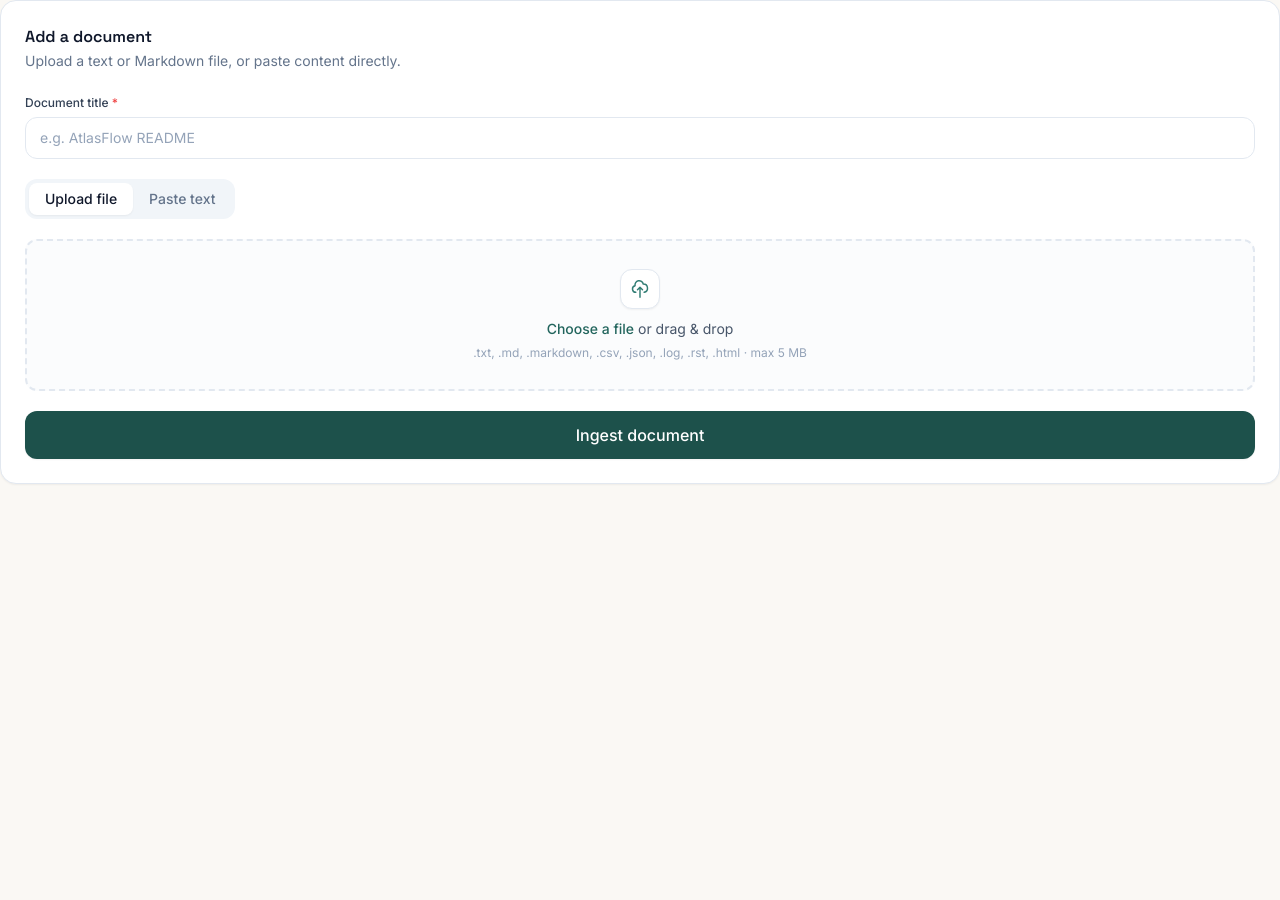
Test: IngestPanel › shows API error on failure
Type "Test Doc" into the field labelled "Document title *". click: x=640, y=138
box: x1=25 y1=117 x2=1255 y2=159
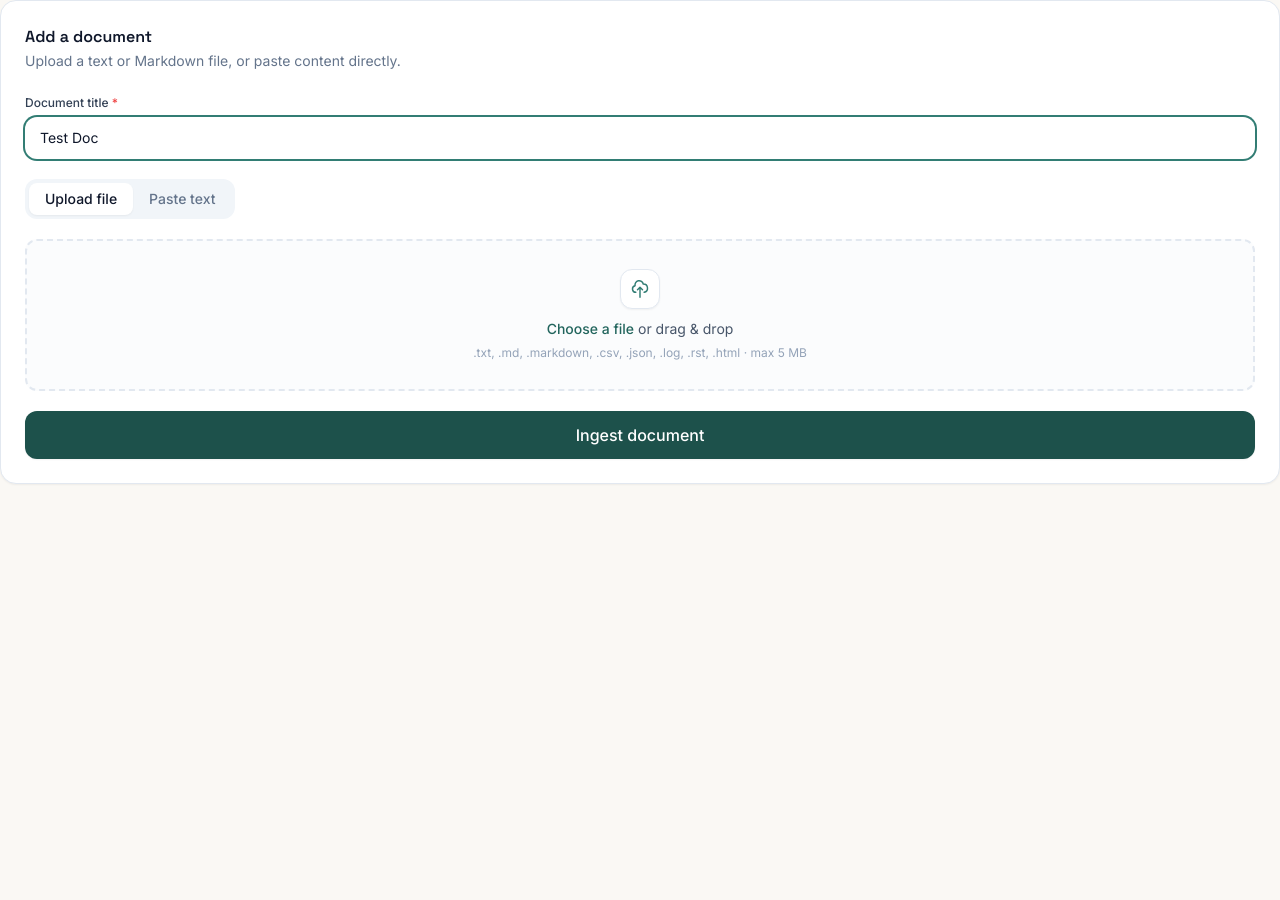
Click the tab "Paste text". click: x=182, y=199
box: x1=133 y1=183 x2=232 y2=215
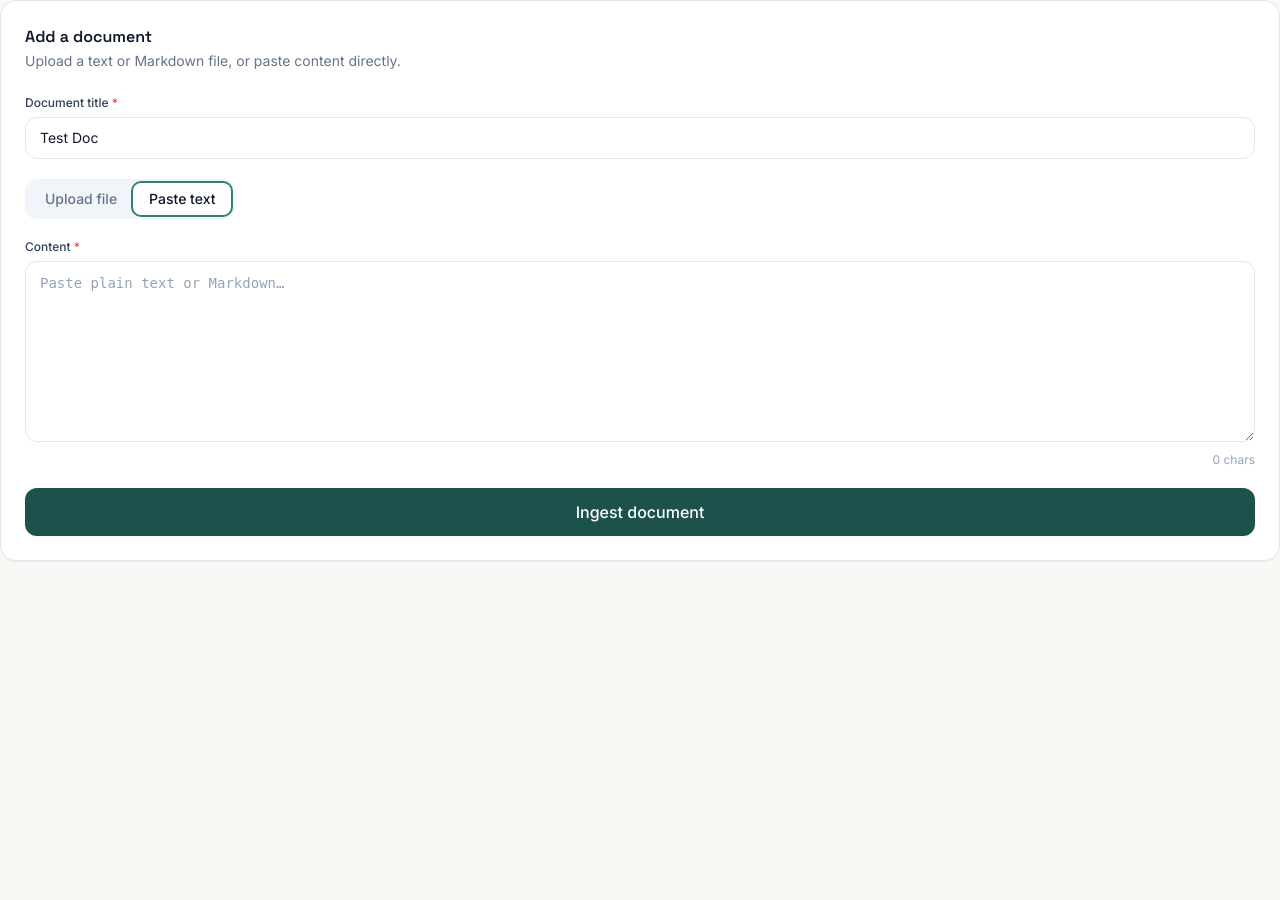
Type "This is a long enough document content for testing purposes." into the text box labelled "Content *". click: x=640, y=352
box: x1=25 y1=261 x2=1255 y2=442
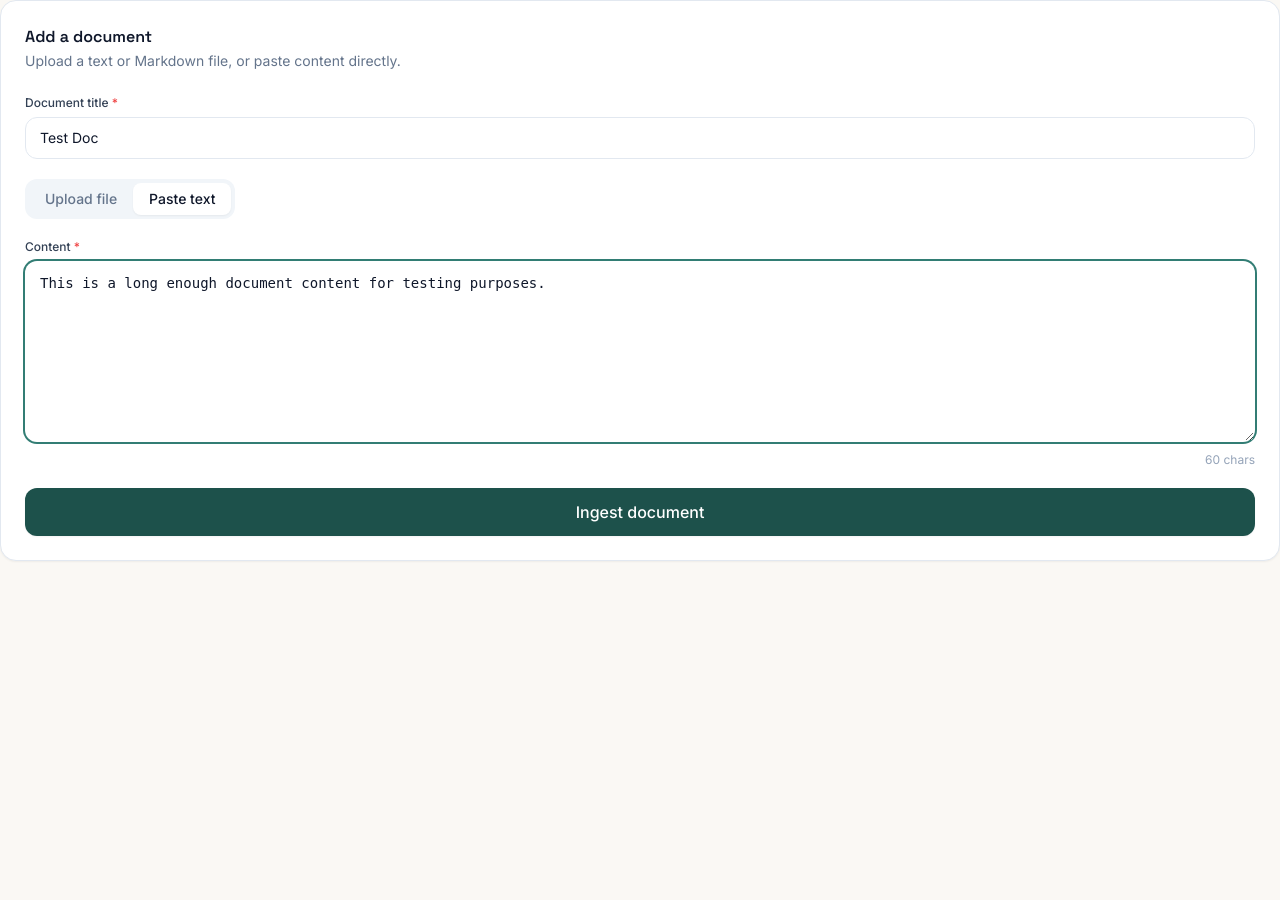
Click the button "Ingest document". click: x=640, y=512
box: x1=25 y1=488 x2=1255 y2=536
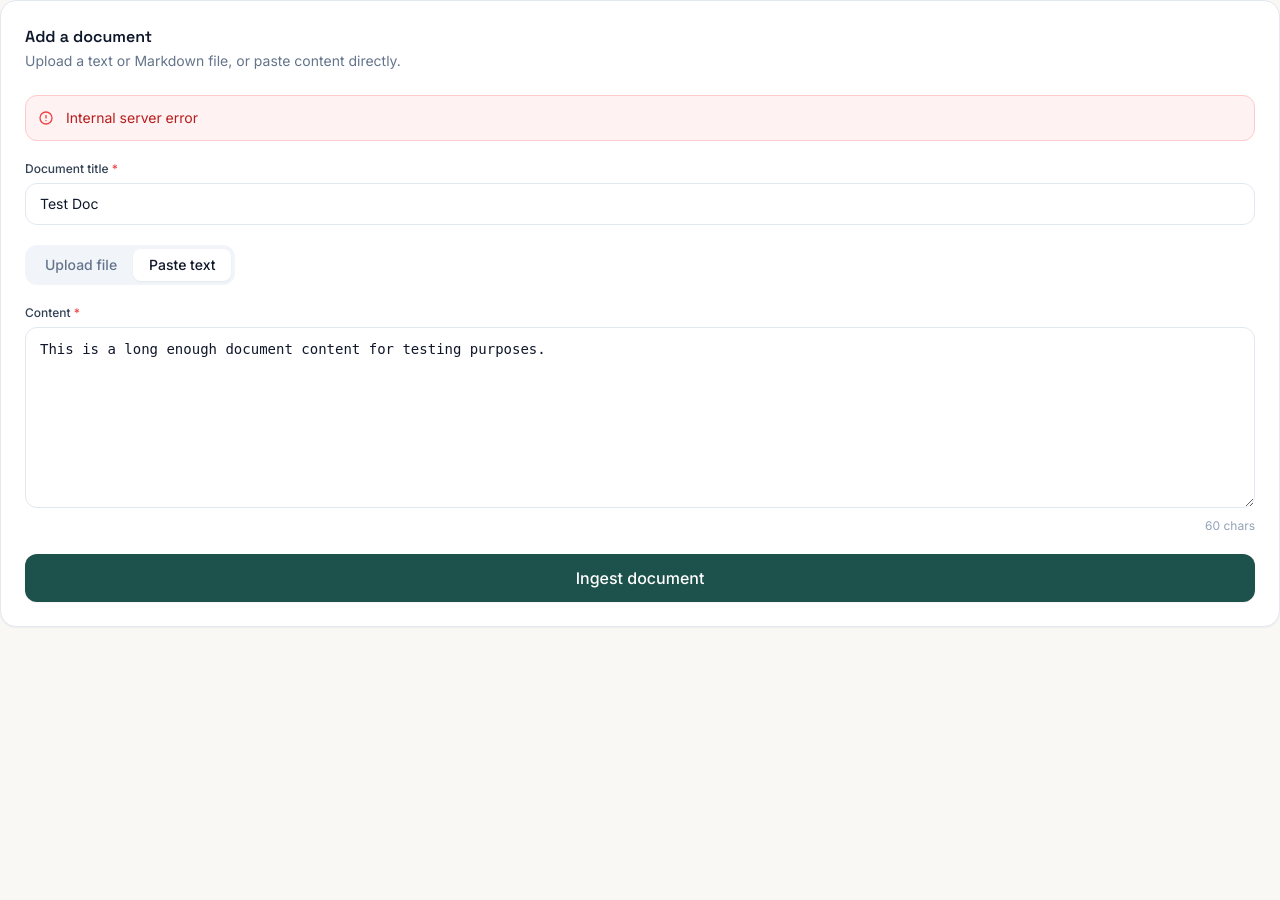
Expected: the text "Internal server error" is shown, x1=66 y1=108 x2=198 y2=128
